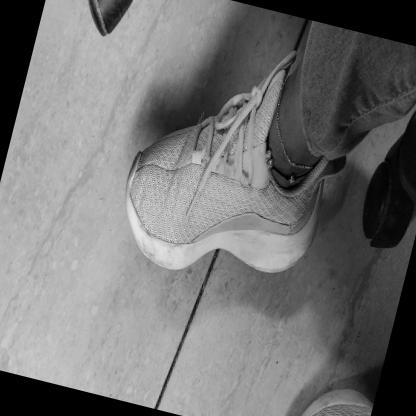ankle: (272, 184, 281, 197)
heel: (308, 219, 318, 238)
left_foot: (110, 70, 349, 304)
pinky: (160, 138, 167, 152)
toe: (135, 188, 146, 209)
